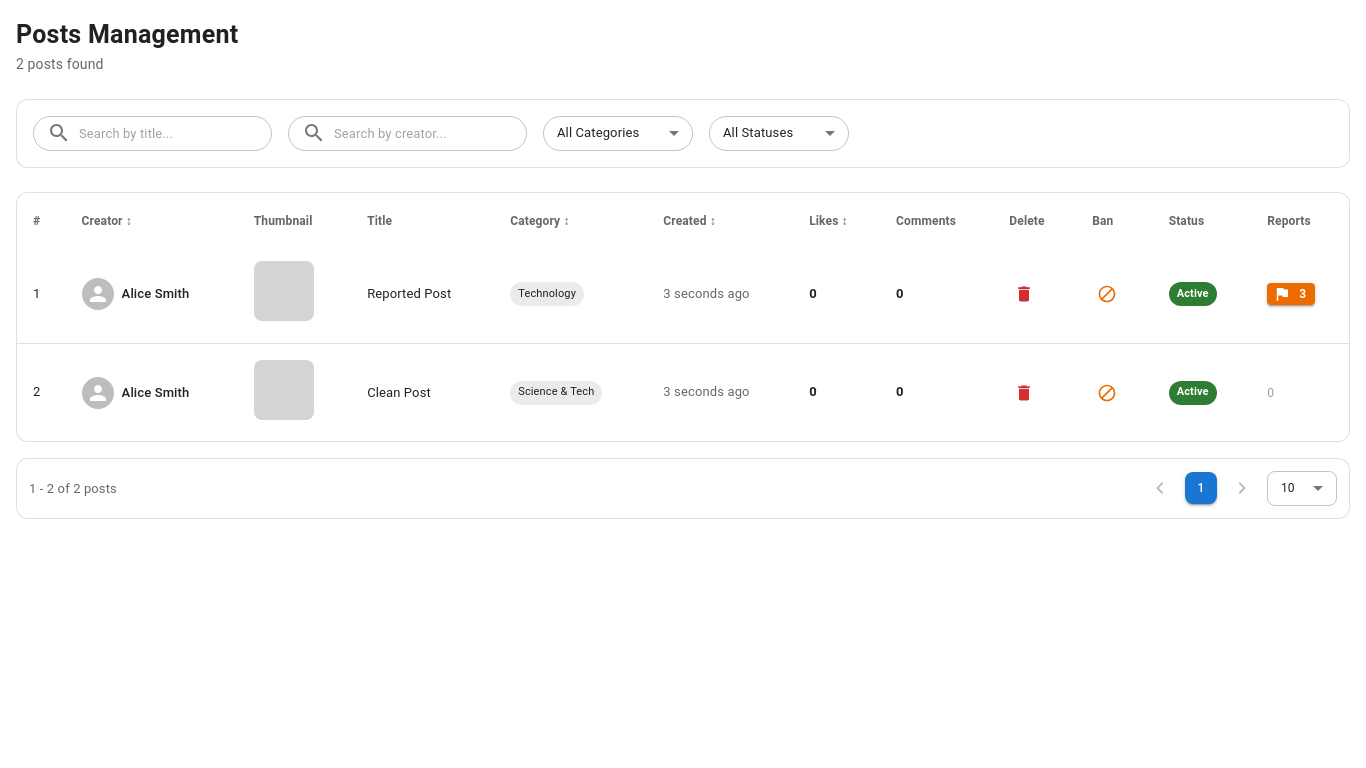
Test: AdminCardsPanel — Reports column › closes the modal when the close button is clicked
What coordinates should you click on to do the following:
click the button named "view 3 reporters"
I would click on:
 (1291, 294)
Its box is [1267,283,1314,305].
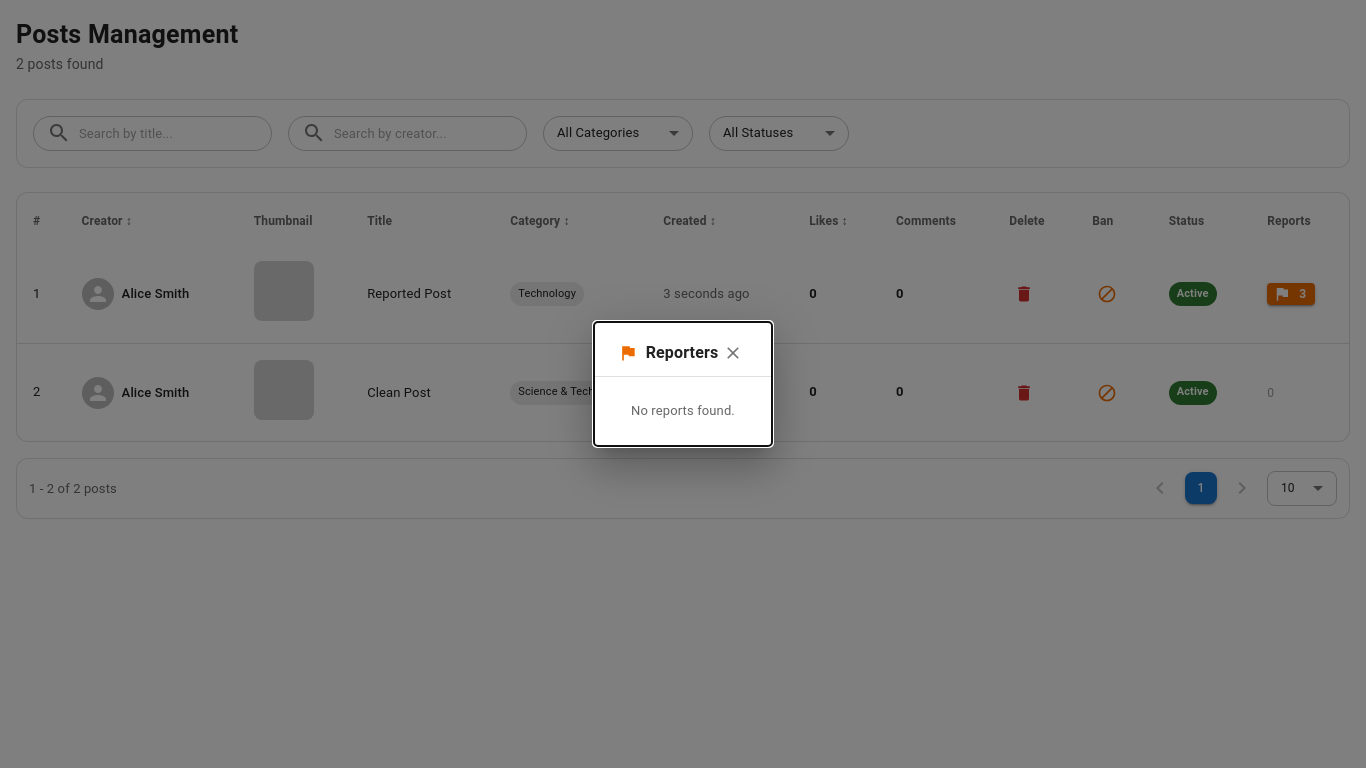
Check: the dialog is shown, box [594,322,772,446]
What coordinates should you click on to do the following:
click the button named "close reporters modal"
I would click on:
 (733, 353)
Its box is [718,338,748,368].
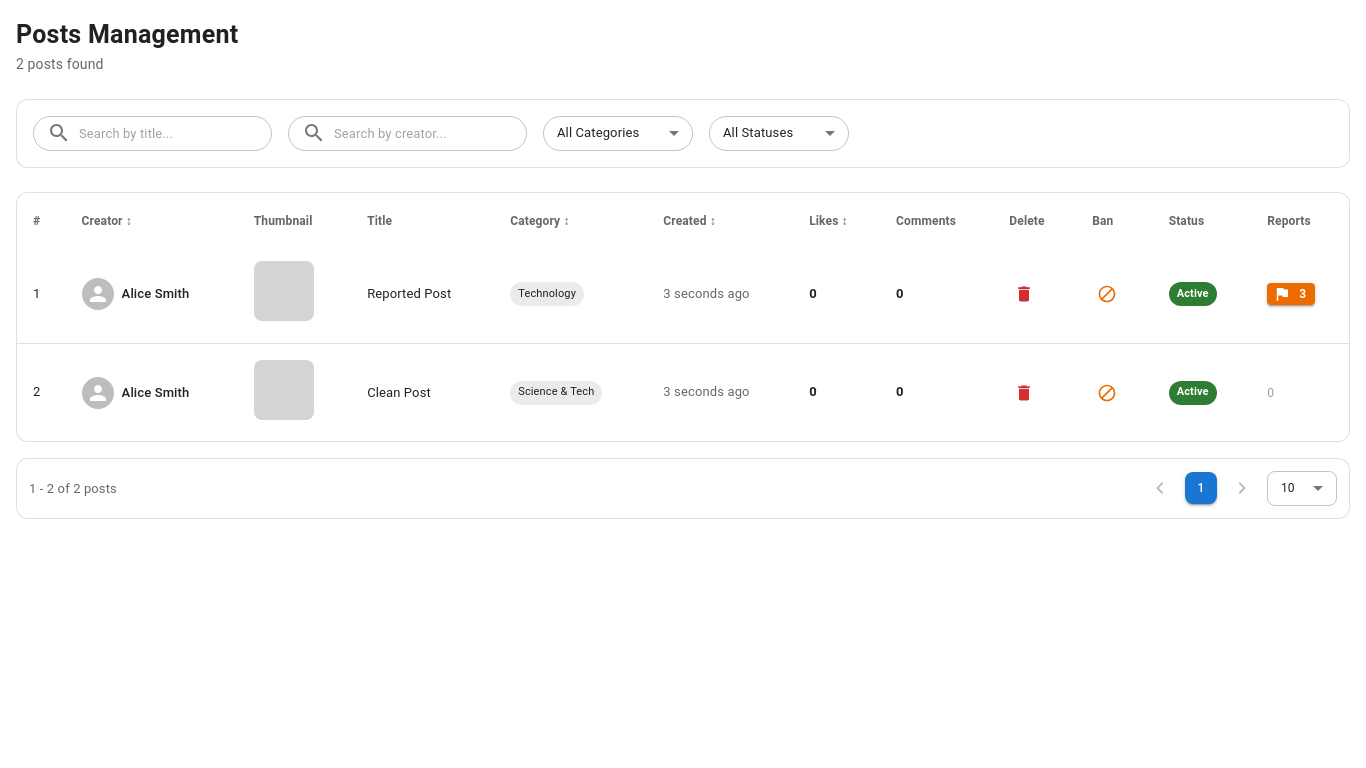
Check: the dialog is gone
